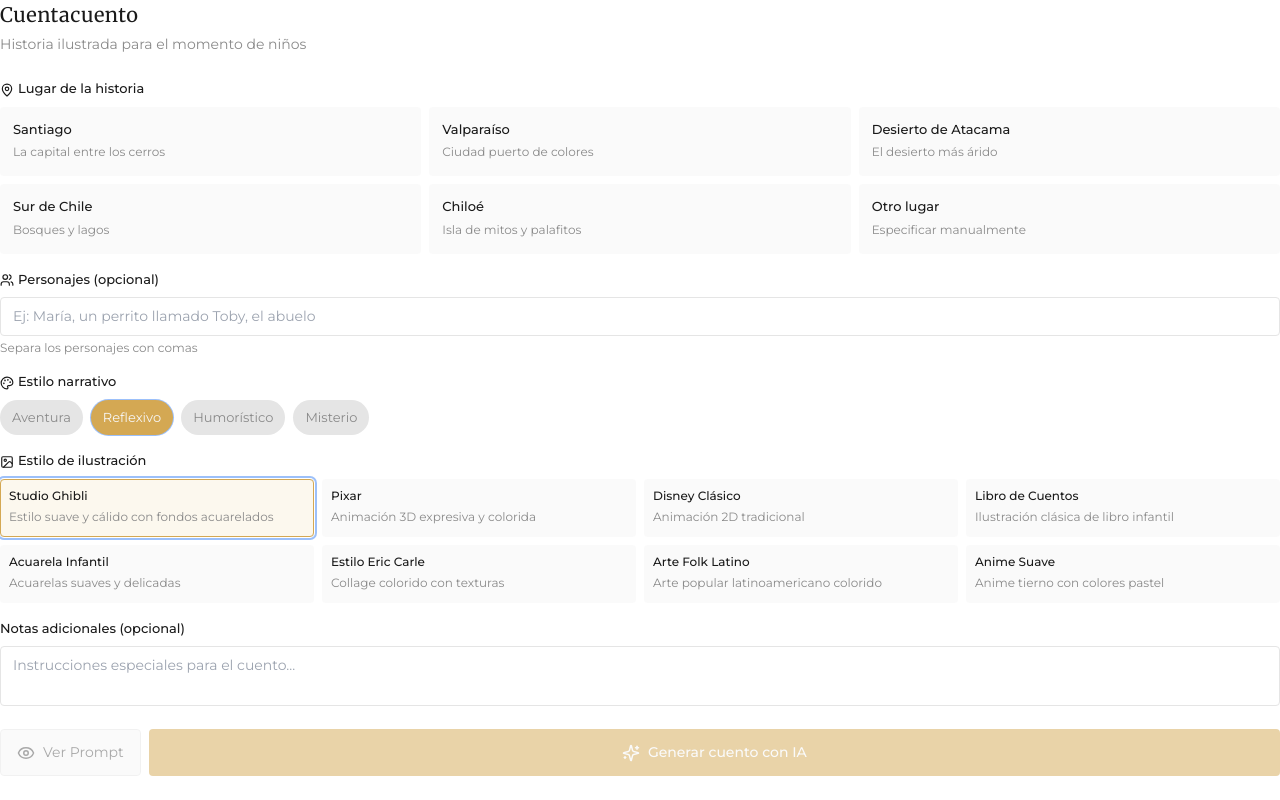
it: T-U.3 — aviso en una generación exitosa › renderiza el mensaje FIJO de `story` / PROP_NOT_RECURRING tal cual
What coordinates should you click on to do the following:
click the button "Santiago La capital entre los cerros"
I would click on:
 (42, 128)
Its box is [0,106,421,176].
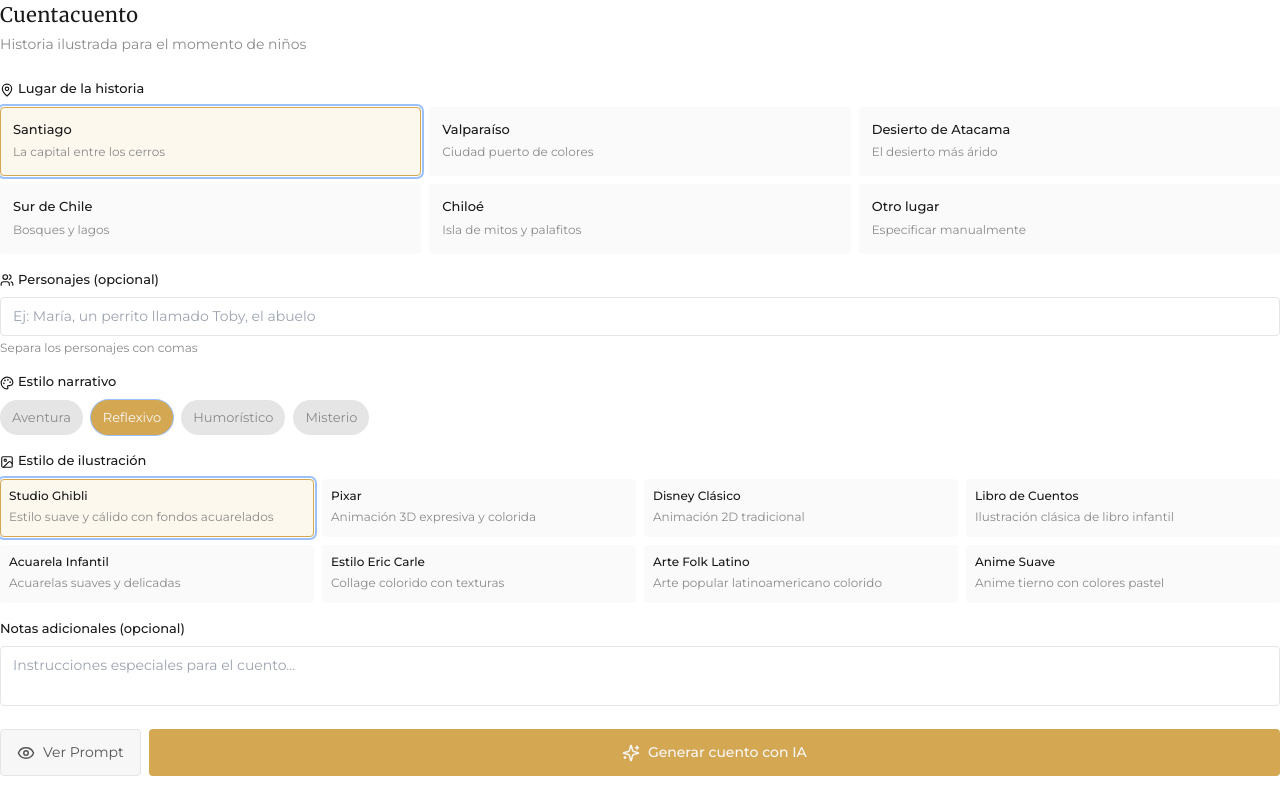
What coordinates should you click on to do the following:
click the button "Generar cuento con IA"
I would click on:
 (714, 752)
Its box is [149,729,1279,776].
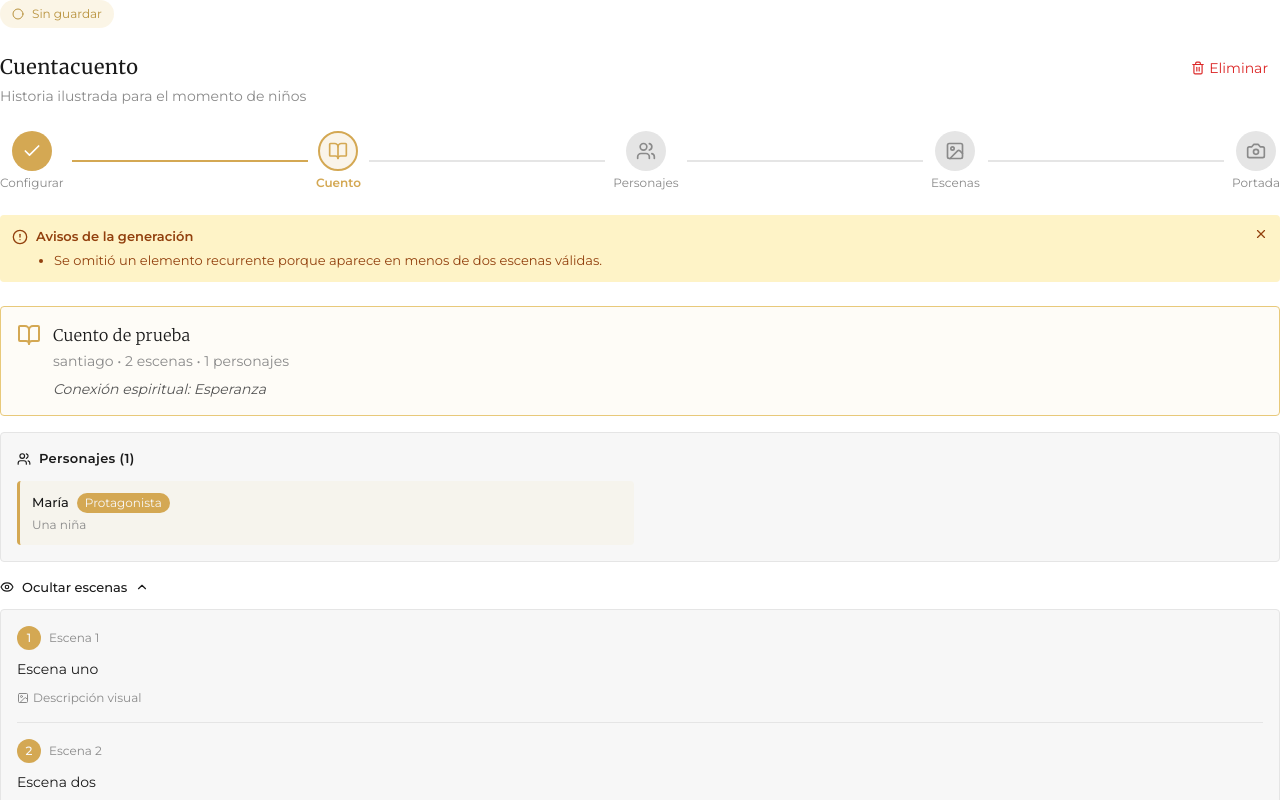
Now the message is shown, box [0,215,1279,282]
